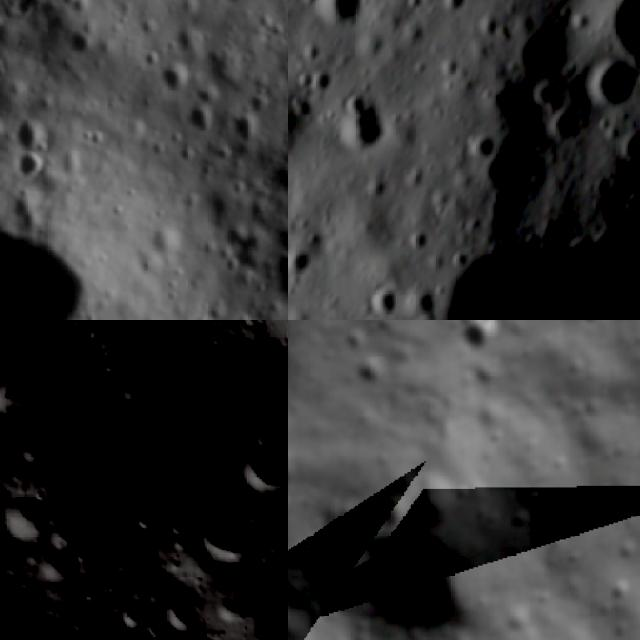crater: (291, 469, 510, 640), (96, 320, 250, 447), (313, 73, 416, 176), (176, 480, 277, 583), (576, 36, 640, 123), (229, 425, 288, 512), (589, 0, 640, 97), (132, 595, 241, 640), (0, 374, 66, 443), (300, 0, 391, 50), (0, 475, 60, 549), (539, 95, 603, 157), (215, 320, 288, 371), (351, 267, 417, 320), (455, 118, 511, 174), (440, 320, 505, 367), (154, 586, 209, 640), (35, 540, 83, 590), (402, 277, 457, 320), (288, 229, 327, 289), (396, 215, 444, 262), (268, 154, 288, 260), (0, 542, 28, 615), (288, 86, 330, 134), (152, 53, 197, 97), (596, 565, 640, 610), (108, 591, 151, 635), (442, 233, 484, 276), (225, 106, 262, 154), (267, 245, 288, 320), (10, 147, 50, 185), (61, 23, 98, 64), (48, 514, 86, 553), (173, 95, 213, 132), (268, 572, 288, 640), (292, 61, 327, 97), (431, 0, 485, 22), (300, 34, 332, 66), (612, 532, 640, 566), (275, 53, 288, 96), (570, 320, 607, 335), (94, 630, 132, 640)
